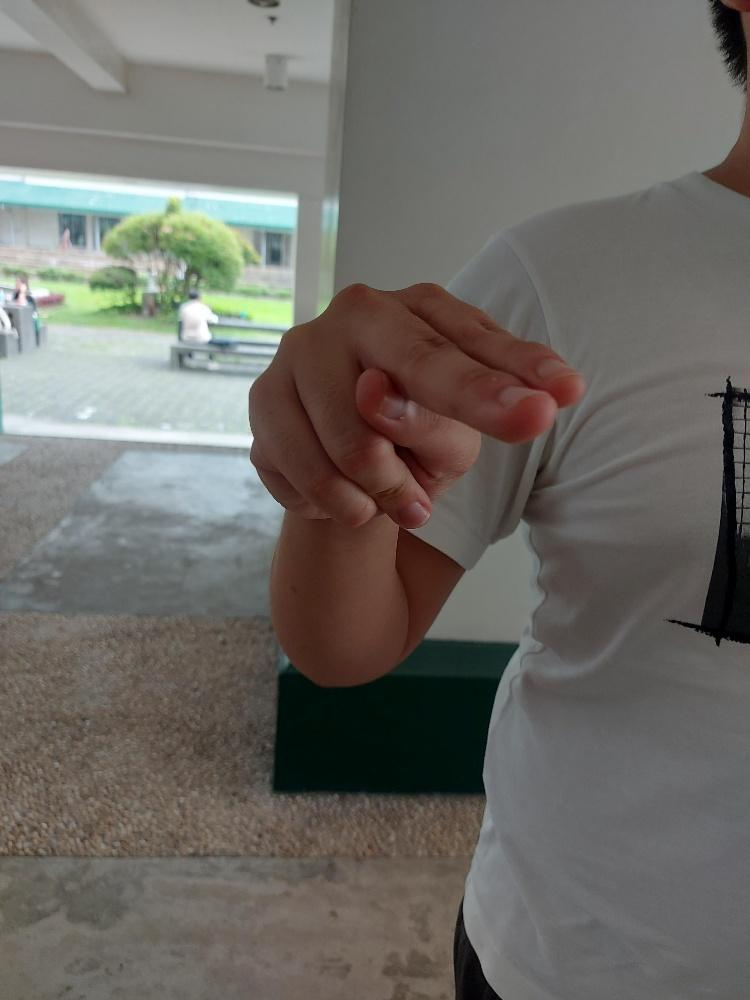n: (241, 278, 580, 531)
